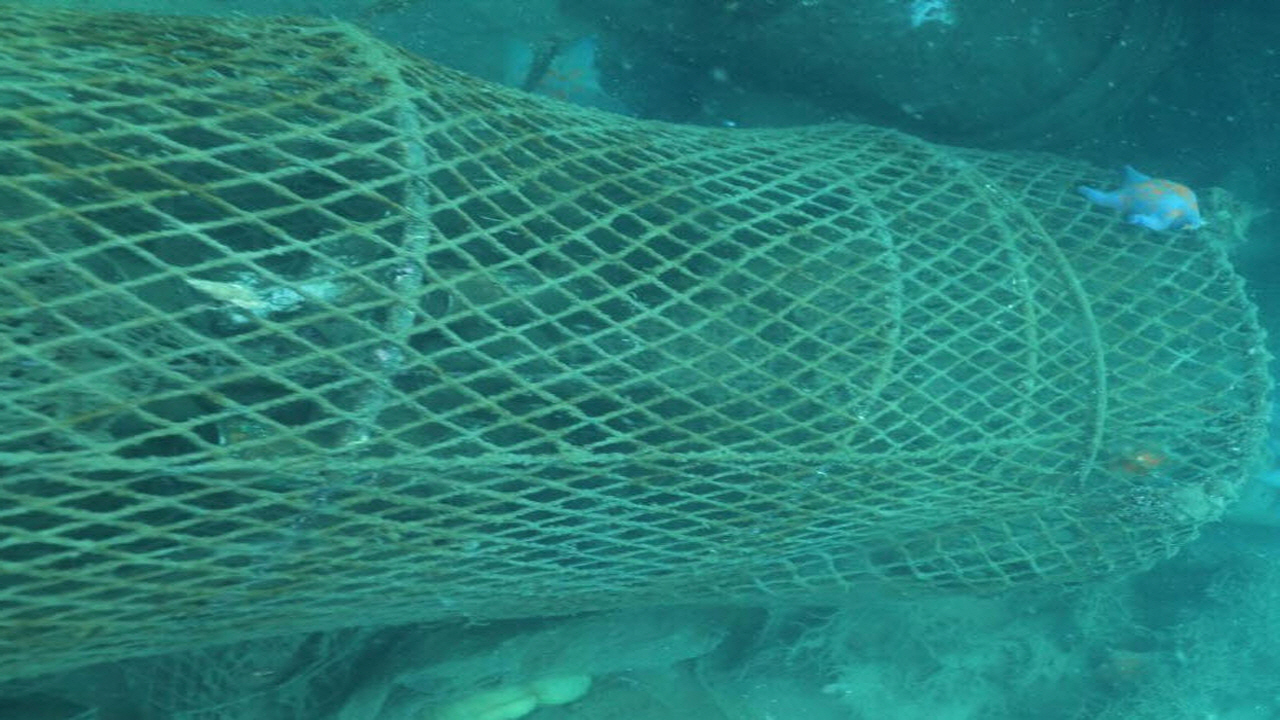spring fish trap: (0, 0, 1272, 686)
